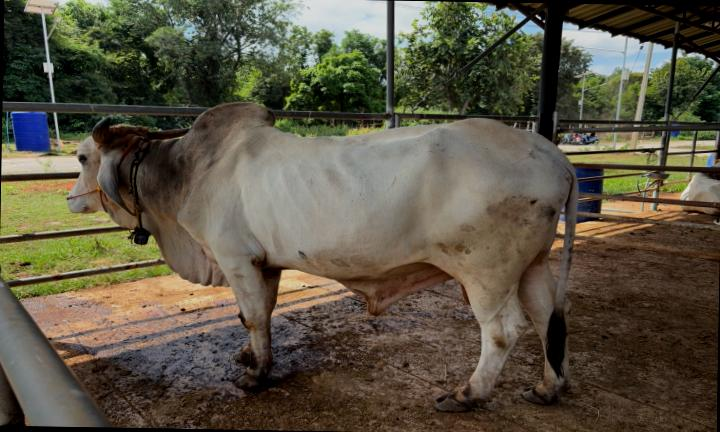Brahman: (67, 102, 578, 412)
